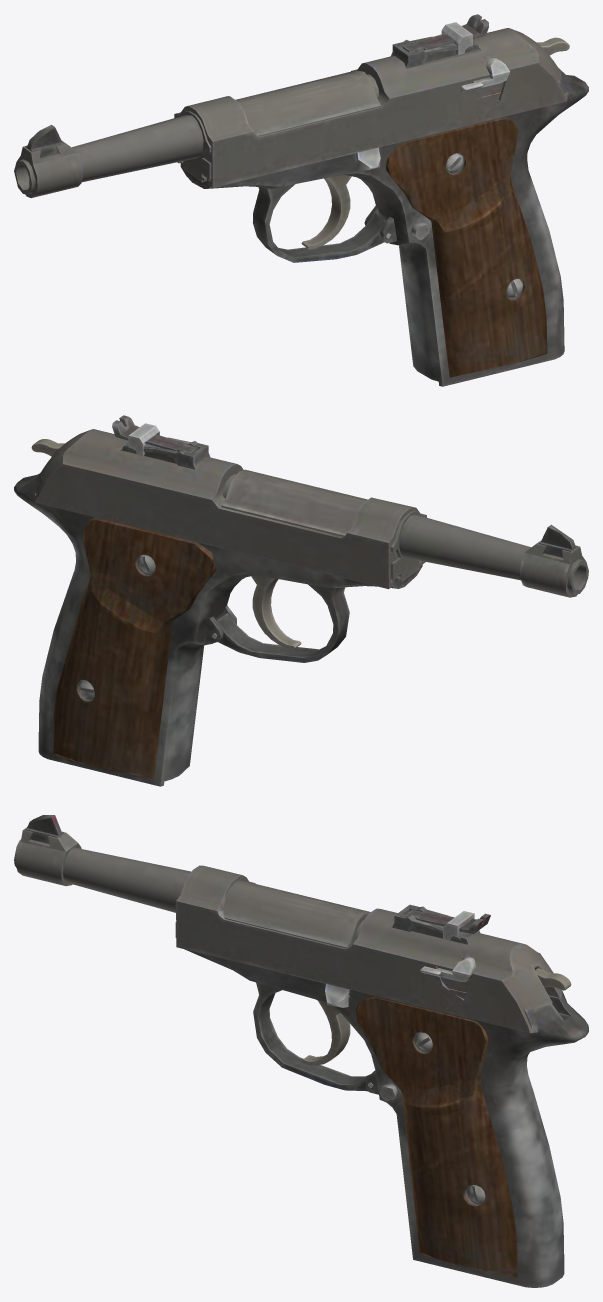
Rendered from pistol.glb.
The picture shows the model from 3 angles, top to bottom: view 1: azimuth 30°, elevation 25°; view 2: azimuth 150°, elevation 25°; view 3: azimuth 330°, elevation 25°; orthographic projection.
Parts seen in each view (by area): view 1: service_pistol_pistol_a, service_pistol_slide_a, service_pistol_trigger_a; view 2: service_pistol_pistol_a, service_pistol_slide_a, service_pistol_trigger_a; view 3: service_pistol_pistol_a, service_pistol_slide_a, service_pistol_trigger_a.
Part boxes in pixels (bbox=[...]): service_pistol_pistol_a: bbox=[14, 68, 588, 386]; service_pistol_slide_a: bbox=[174, 14, 567, 187]; service_pistol_trigger_a: bbox=[301, 174, 351, 249]; service_pistol_pistol_a: bbox=[14, 469, 588, 786]; service_pistol_slide_a: bbox=[33, 415, 426, 589]; service_pistol_trigger_a: bbox=[251, 575, 301, 649]; service_pistol_pistol_a: bbox=[14, 815, 588, 1287]; service_pistol_slide_a: bbox=[176, 865, 566, 1033]; service_pistol_trigger_a: bbox=[301, 1000, 350, 1065].
Size of the model in its own units: 0.1664 by 0.0971 by 0.0238.
1 material, 1 textured.
